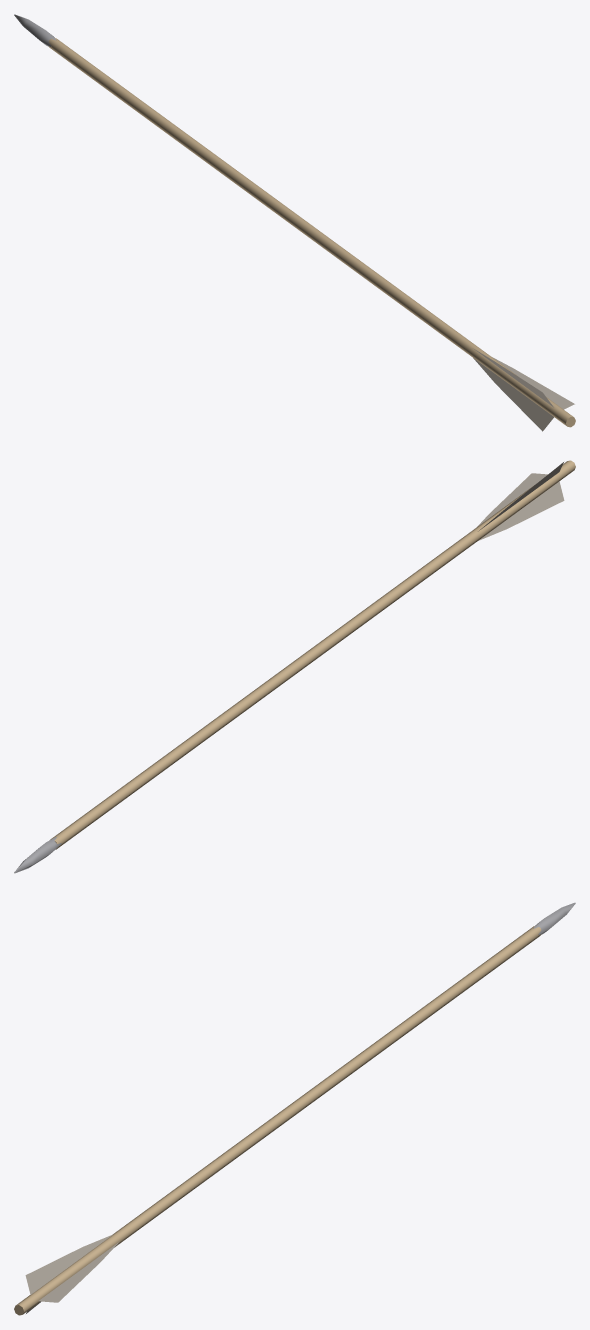
Rendered from Arrow.fbx.
3 renders of one model, top to bottom at view 1: azimuth 30°, elevation 25°; view 2: azimuth 150°, elevation 25°; view 3: azimuth 330°, elevation 25°, orthographic.
Visible parts, largest first — view 1: Arrow; view 2: Arrow; view 3: Arrow.
Boxes of the visible parts, <box> form: Arrow: <box>14,14,575,431</box>; Arrow: <box>14,460,575,873</box>; Arrow: <box>14,902,575,1315</box>.
Bounding box in the file's own units: 0.027 × 0.0312 × 0.8.
